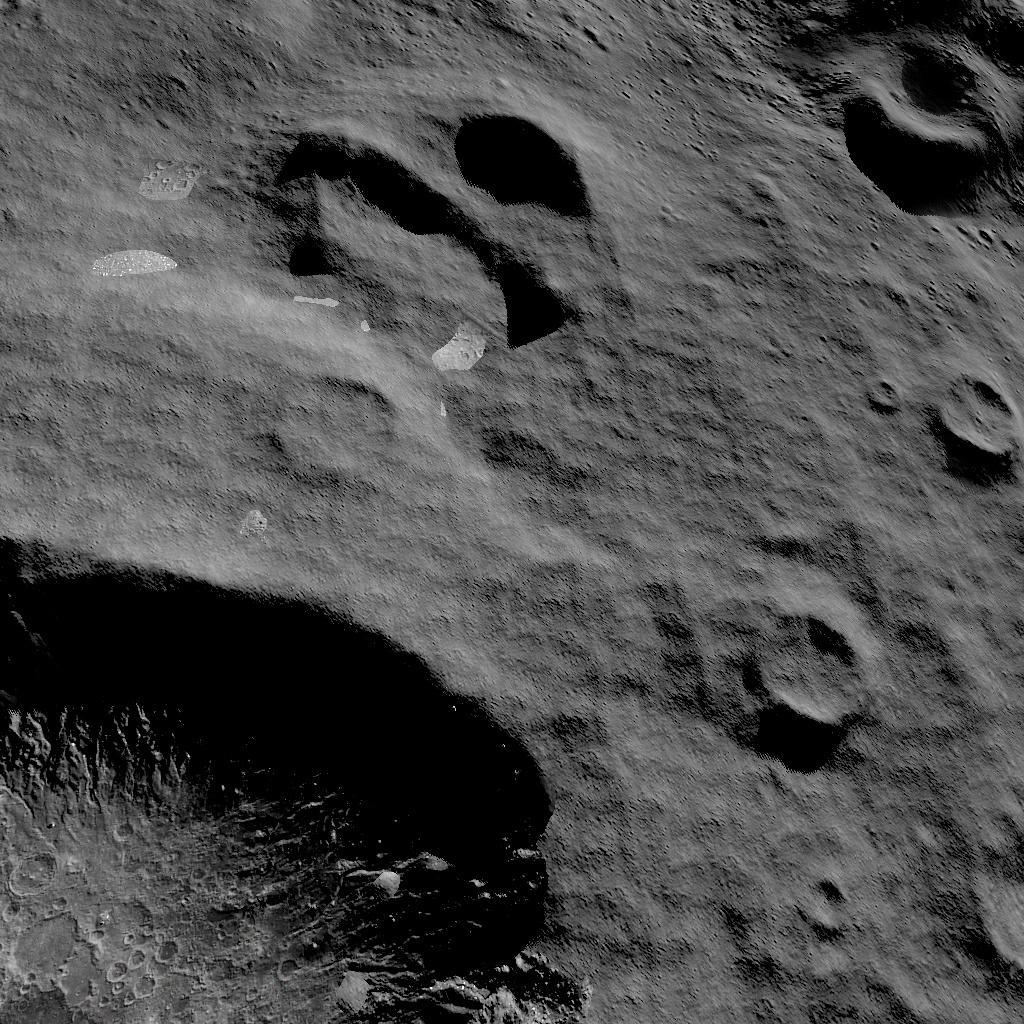Crater: (3, 508, 591, 1024), (271, 94, 602, 345), (813, 0, 1024, 204), (729, 604, 876, 769), (919, 364, 1024, 484)
Plan surface: (0, 0, 250, 486), (611, 776, 1024, 1024)
